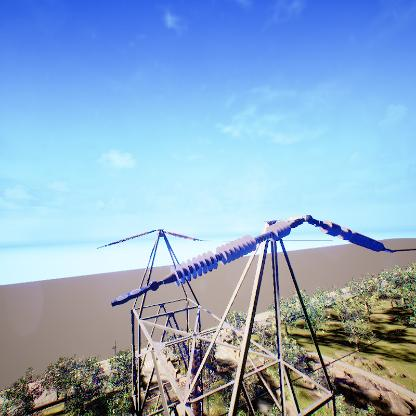insulator: (168, 219, 292, 287), (317, 219, 385, 254)
